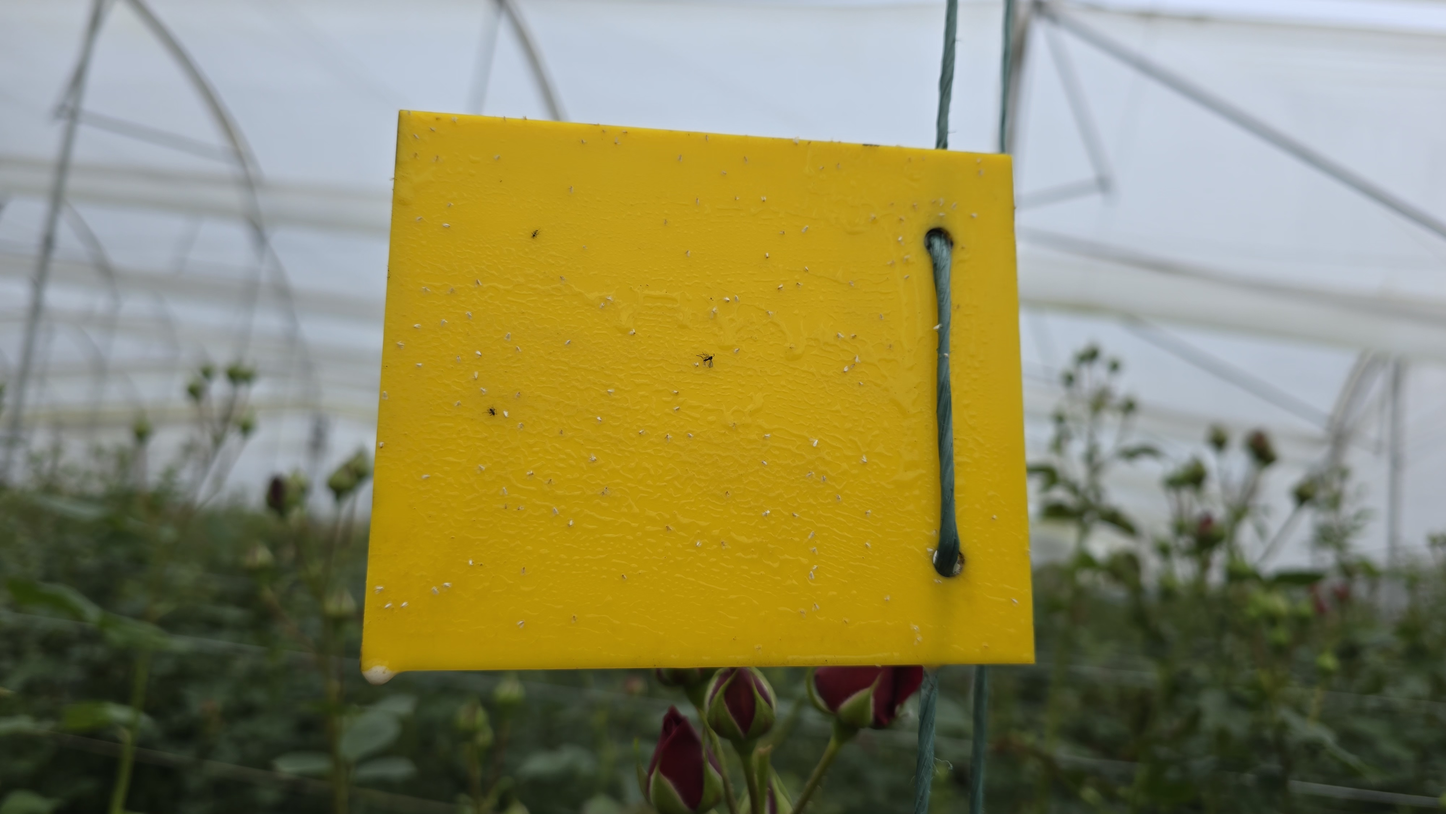WF: (1011, 597, 1021, 606), (801, 225, 810, 235), (480, 387, 489, 396), (382, 391, 391, 400), (566, 519, 575, 528), (931, 324, 942, 331), (422, 473, 431, 481), (467, 559, 476, 567), (384, 601, 393, 609), (811, 547, 819, 556), (809, 531, 817, 540), (791, 511, 800, 519), (430, 586, 440, 593), (813, 603, 820, 613), (853, 353, 860, 363), (836, 333, 846, 340), (475, 350, 483, 358), (465, 310, 473, 318), (397, 340, 405, 348), (412, 133, 420, 141), (552, 507, 560, 515), (762, 510, 770, 518), (710, 307, 718, 315), (442, 223, 451, 230), (503, 410, 510, 419), (505, 332, 512, 341), (862, 455, 869, 464), (841, 366, 850, 373), (629, 328, 638, 335), (807, 470, 816, 477), (442, 582, 452, 588), (415, 361, 423, 368), (473, 372, 480, 380), (455, 400, 463, 407), (478, 465, 485, 473), (519, 422, 526, 430), (590, 456, 598, 463), (971, 212, 979, 219), (399, 603, 410, 608), (413, 323, 422, 329), (379, 441, 385, 450), (375, 586, 384, 592), (516, 621, 525, 627), (810, 571, 816, 580), (925, 547, 934, 553), (441, 318, 448, 325), (565, 339, 572, 346), (596, 416, 603, 423), (724, 297, 731, 304), (777, 284, 784, 291), (614, 139, 621, 146), (450, 117, 458, 123), (526, 472, 535, 477), (813, 440, 818, 449), (424, 286, 431, 292), (502, 487, 509, 493), (608, 389, 615, 395), (667, 434, 673, 441), (897, 236, 904, 242), (766, 309, 772, 316), (820, 475, 827, 481), (939, 213, 947, 218), (735, 294, 740, 302), (864, 511, 872, 516), (416, 216, 422, 222), (496, 155, 502, 161), (813, 565, 819, 571), (735, 348, 741, 354), (904, 274, 910, 280), (607, 296, 614, 301), (866, 543, 871, 550), (695, 361, 700, 368), (766, 252, 770, 260), (430, 127, 436, 132), (523, 116, 529, 121), (516, 346, 521, 352), (516, 392, 521, 398), (601, 302, 606, 308), (688, 433, 693, 439), (697, 541, 702, 547), (762, 460, 767, 466), (674, 390, 680, 395), (675, 407, 681, 412), (581, 139, 586, 145), (623, 130, 629, 135), (640, 429, 644, 436), (837, 494, 841, 501), (456, 355, 461, 360), (762, 197, 767, 202), (686, 250, 690, 256), (601, 129, 607, 133), (805, 267, 809, 273), (504, 117, 508, 122), (765, 434, 771, 437)
